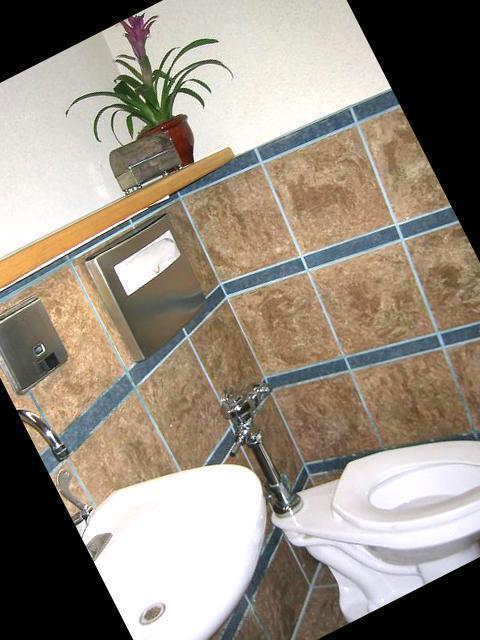Lavamanos: (12, 317, 335, 640)
Sanitario: (209, 276, 480, 631)
